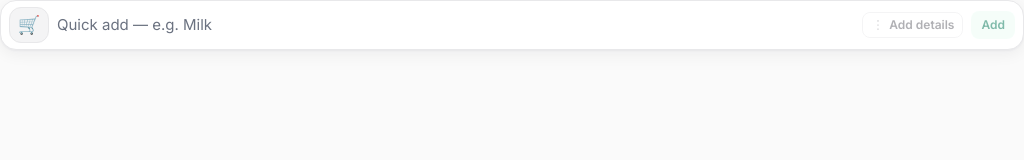
QuickAdd details action › keeps Add details disabled until an item name is entered
Expected: the button with test id "quickadd-details-button" is disabled, x1=862 y1=12 x2=964 y2=38
Type "Milk" into the field with placeholder "Quick add — e.g. Milk".
click(452, 25); type("Milk")  # box x1=57 y1=14 x2=846 y2=36
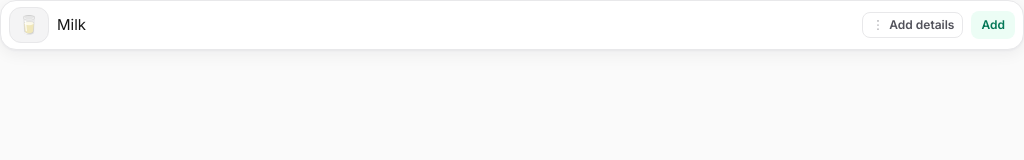
Expected: the button with test id "quickadd-details-button" is enabled, x1=862 y1=12 x2=964 y2=38
